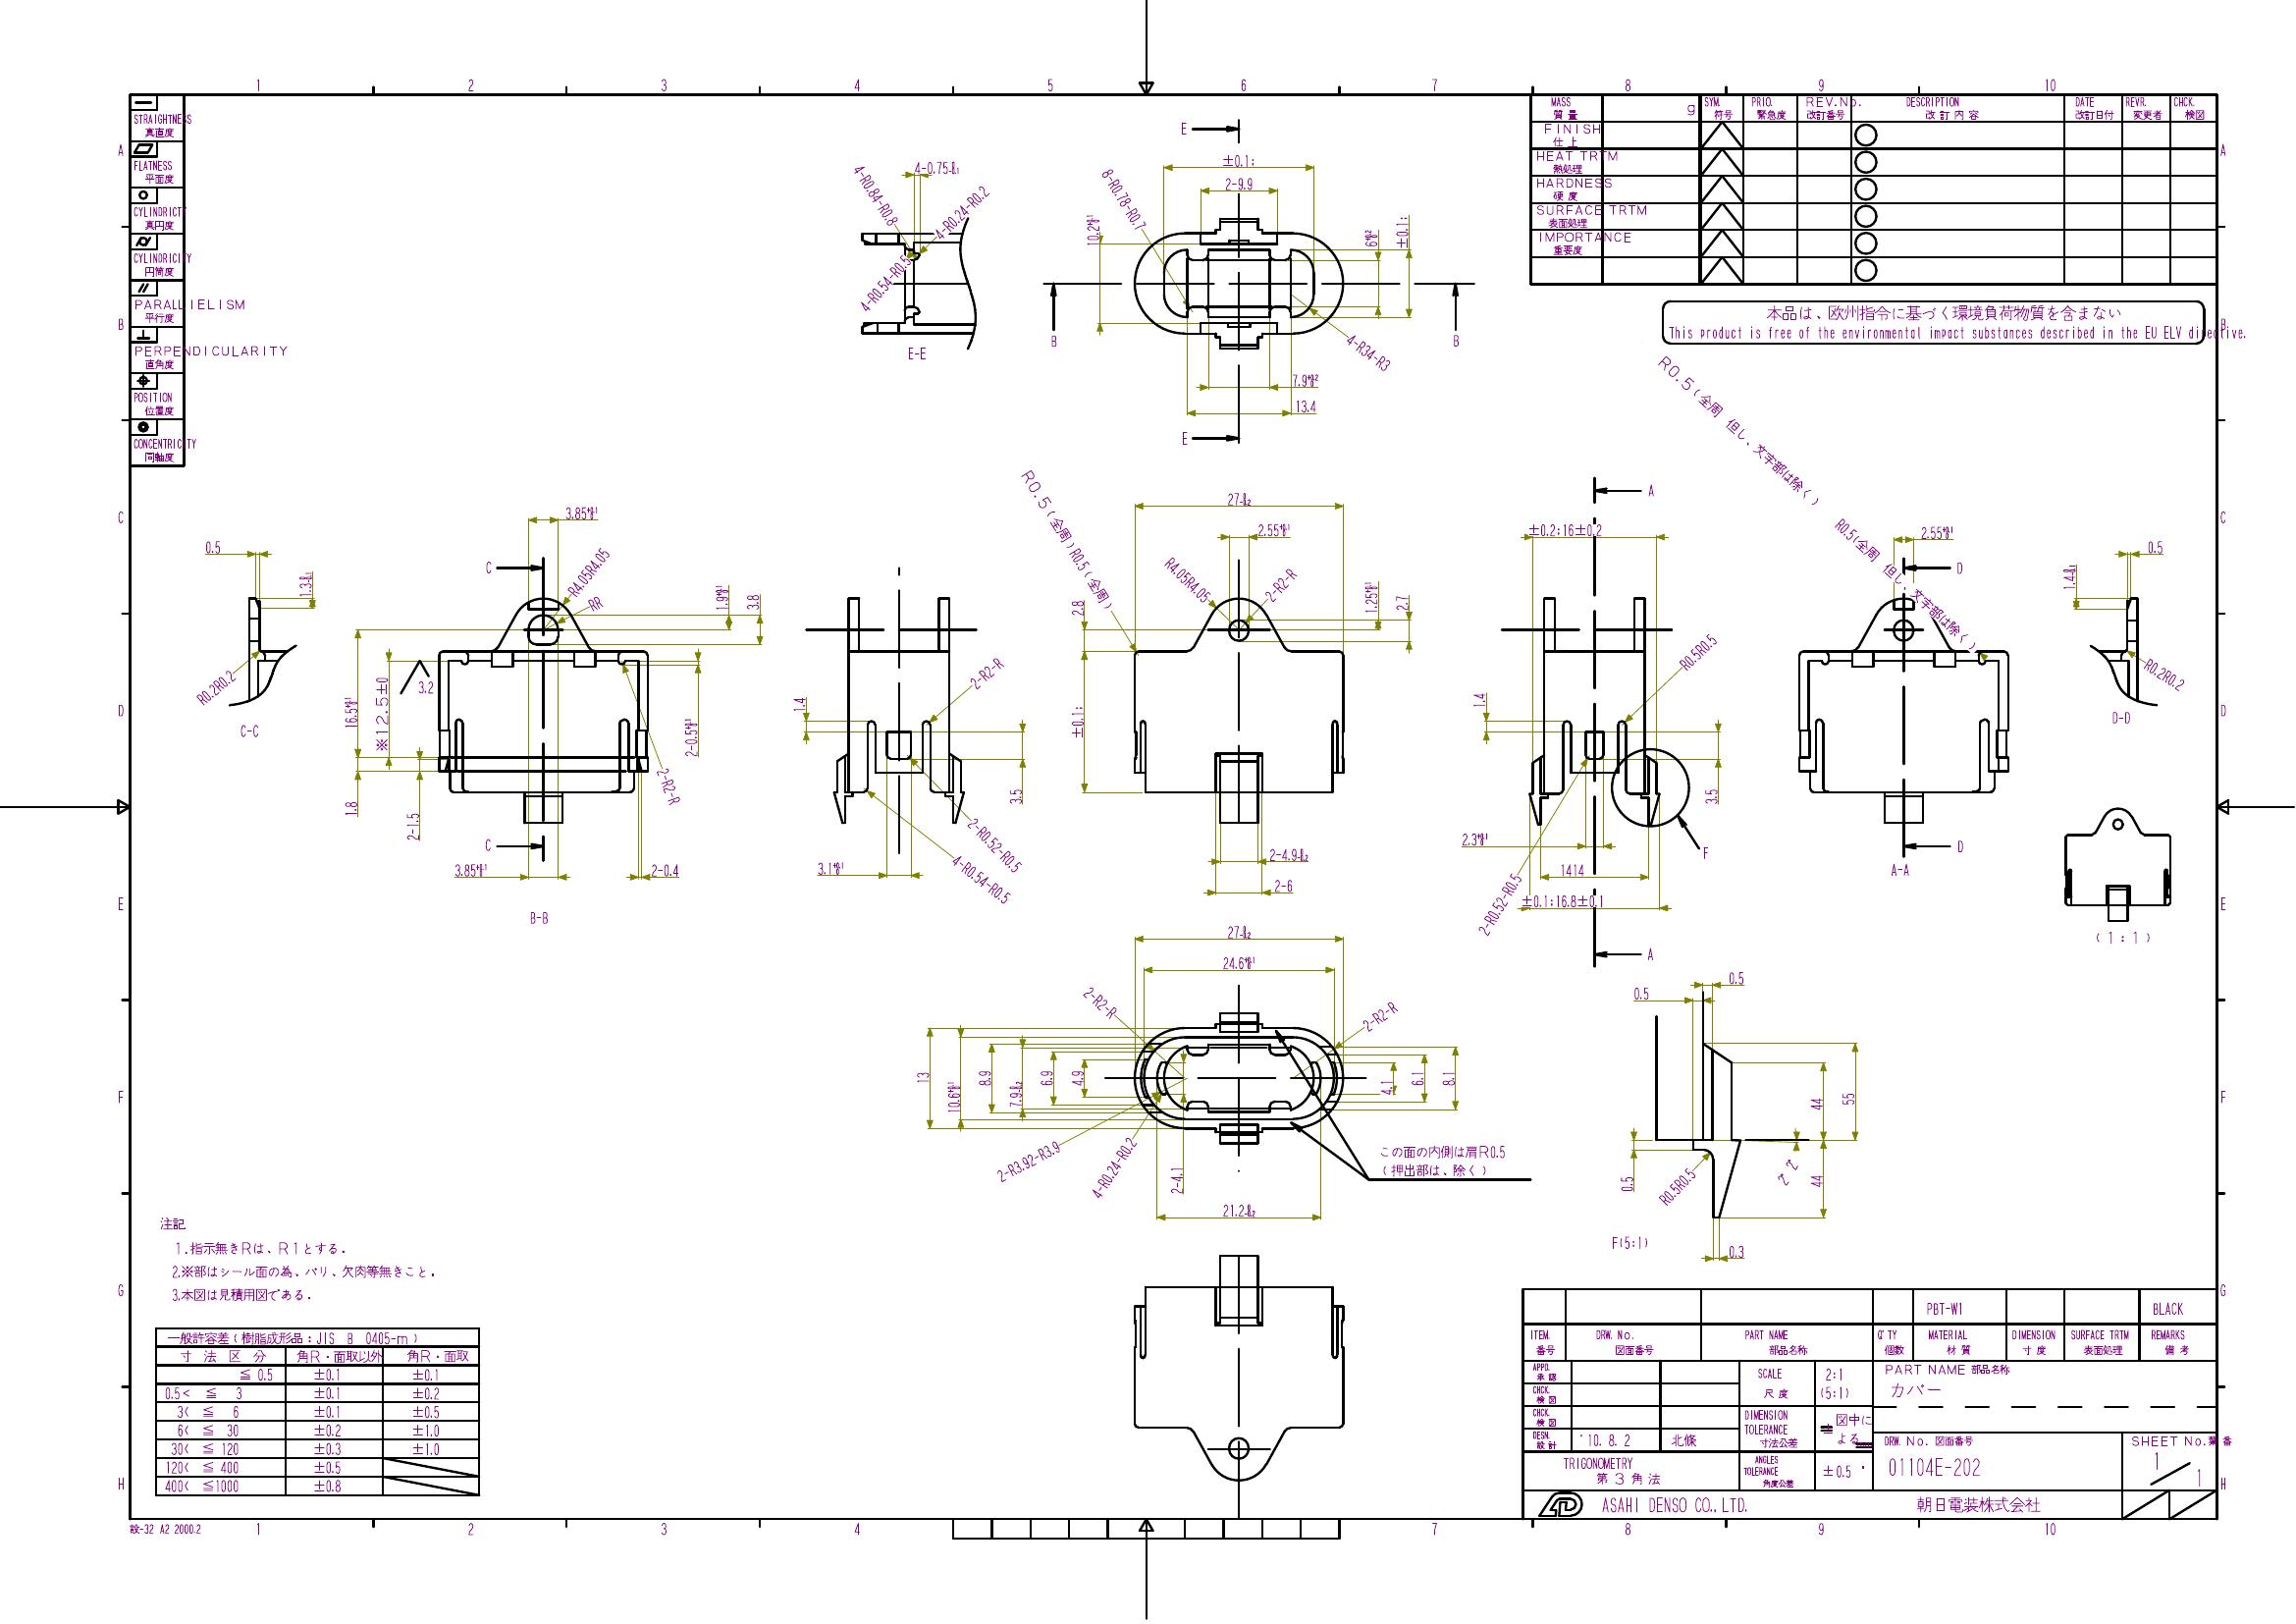anntotation_text: (155, 1209, 441, 1311), (1660, 299, 2203, 344), (1832, 582, 1999, 601), (1671, 439, 1846, 457), (2092, 924, 2155, 949), (1381, 1162, 1491, 1176), (130, 1520, 206, 1536), (1607, 1229, 1651, 1253), (1089, 568, 1107, 610), (522, 905, 553, 928), (1054, 508, 1070, 550), (1880, 861, 1917, 879), (2106, 707, 2134, 724), (239, 717, 262, 736), (1175, 425, 1193, 450), (1448, 329, 1465, 353), (905, 343, 926, 362), (1643, 939, 1657, 965), (1952, 557, 1967, 580), (1699, 838, 1711, 865), (1175, 116, 1189, 137), (1952, 835, 1966, 856), (481, 555, 494, 578), (1643, 482, 1657, 497), (480, 835, 492, 851), (1047, 334, 1059, 348)
dimension_text: (1379, 1142, 1509, 1158), (1525, 520, 1604, 538), (1520, 891, 1604, 907), (372, 673, 388, 752), (989, 1153, 1066, 1169), (952, 179, 968, 250), (945, 872, 1022, 886), (1665, 344, 1686, 395), (866, 162, 882, 228), (1490, 872, 1505, 939), (1077, 1162, 1151, 1176), (956, 838, 1038, 851), (1116, 165, 1130, 232), (845, 278, 921, 290), (680, 710, 697, 761), (1156, 573, 1219, 587), (553, 562, 624, 575), (1026, 464, 1043, 508), (1340, 344, 1395, 359), (912, 158, 959, 174), (1265, 844, 1312, 859), (1356, 1005, 1404, 1021), (942, 1077, 959, 1120), (1216, 1199, 1258, 1216), (1254, 517, 1291, 536), (1260, 575, 1303, 591), (1676, 643, 1725, 657), (1918, 522, 1957, 540), (662, 765, 678, 807), (2143, 668, 2191, 682), (1221, 953, 1258, 970), (341, 691, 357, 731), (190, 682, 241, 694), (968, 664, 1012, 678), (1223, 170, 1254, 190), (817, 856, 848, 875), (1070, 700, 1084, 742), (295, 566, 313, 599), (2059, 559, 2076, 592), (562, 503, 599, 518), (404, 807, 420, 842), (648, 861, 683, 877), (711, 582, 729, 613), (1223, 489, 1254, 506), (1391, 214, 1407, 248), (455, 859, 488, 875), (1223, 923, 1256, 939), (1780, 1156, 1797, 1186), (1221, 153, 1258, 167), (1361, 576, 1375, 613), (1077, 995, 1119, 1007), (1671, 1165, 1683, 1207), (1035, 1065, 1054, 1091), (1291, 371, 1323, 387), (1460, 831, 1491, 847), (1556, 859, 1588, 875), (1007, 1077, 1022, 1109), (1295, 394, 1318, 415), (1082, 211, 1098, 241), (1170, 1162, 1184, 1195), (975, 1063, 993, 1090), (1836, 515, 1852, 541), (2143, 533, 2162, 554), (1374, 1076, 1395, 1095), (1391, 591, 1409, 613), (1700, 784, 1718, 807), (1270, 875, 1295, 891), (1072, 545, 1087, 569), (416, 677, 436, 696), (1361, 227, 1379, 248), (1070, 1065, 1084, 1091), (1407, 1067, 1425, 1088), (1614, 1171, 1632, 1192), (1806, 1093, 1823, 1114), (745, 589, 761, 612), (1727, 1241, 1746, 1258), (202, 538, 223, 554), (789, 692, 805, 714), (1470, 687, 1486, 708), (1439, 1067, 1455, 1088), (1806, 1169, 1822, 1190), (1070, 598, 1084, 620), (344, 798, 360, 817), (1007, 786, 1022, 805), (1630, 982, 1650, 998), (1727, 967, 1743, 986), (1839, 1090, 1855, 1107), (915, 1067, 929, 1086), (587, 598, 604, 610)
object: (1133, 1253, 1346, 1482), (1133, 599, 1346, 823), (1799, 599, 2010, 823), (437, 598, 646, 823), (831, 596, 964, 823), (1528, 598, 1660, 824), (1135, 1011, 1342, 1142), (1133, 218, 1342, 348), (859, 216, 978, 350), (2066, 807, 2170, 921), (1692, 1044, 1741, 1216), (2089, 596, 2159, 707), (228, 598, 297, 707)
title_block: (1521, 1287, 2217, 1519), (1530, 93, 2217, 283), (155, 1327, 480, 1496), (130, 93, 183, 466)
